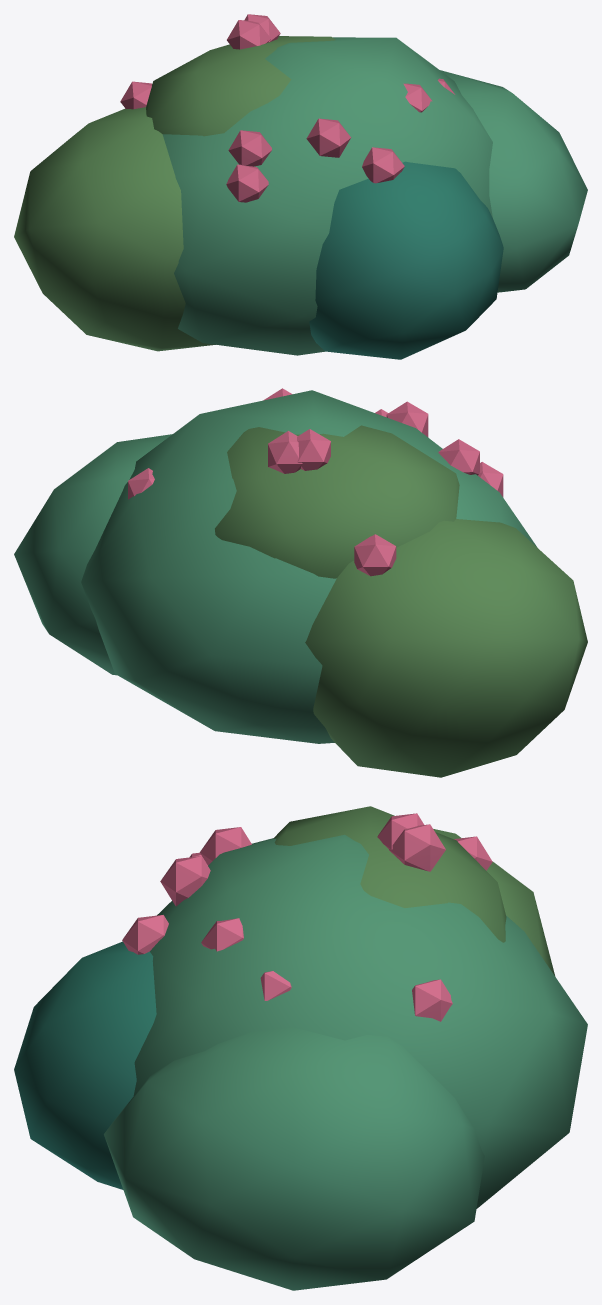
Rendered from bush_pink.glb.
3 renders of one model, top to bottom at view 1: azimuth 30°, elevation 25°; view 2: azimuth 150°, elevation 25°; view 3: azimuth 270°, elevation 25°, orthographic. The views are drawn at different scales.
Parts seen in each view (by area): view 1: bush_pink; view 2: bush_pink; view 3: bush_pink.
Boxes of the visible parts, x1,y1,x2,y2 form: bush_pink: (14,14,587,359); bush_pink: (14,388,587,777); bush_pink: (14,806,587,1290).
Size of the model in its own units: 2.61 by 1.45 by 2.
